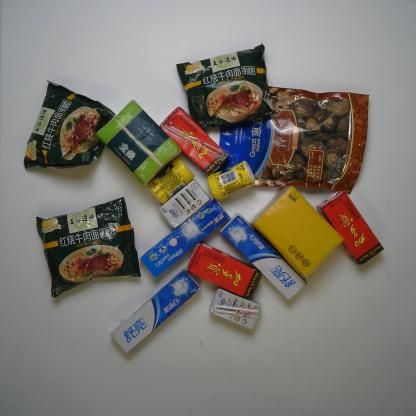Dried Food: (218, 86, 370, 195)
Drink: (316, 190, 384, 266), (159, 107, 229, 175), (186, 240, 262, 300)
Gum: (147, 157, 196, 204), (207, 160, 255, 202)
Instant Noodles: (36, 196, 141, 300), (176, 42, 278, 132), (24, 80, 116, 169)
Milk: (159, 178, 212, 229), (208, 287, 262, 329)
Personal Hygiene: (219, 212, 309, 301), (110, 268, 201, 354), (139, 198, 230, 278)
Tissue: (250, 184, 344, 279), (95, 98, 182, 186)
